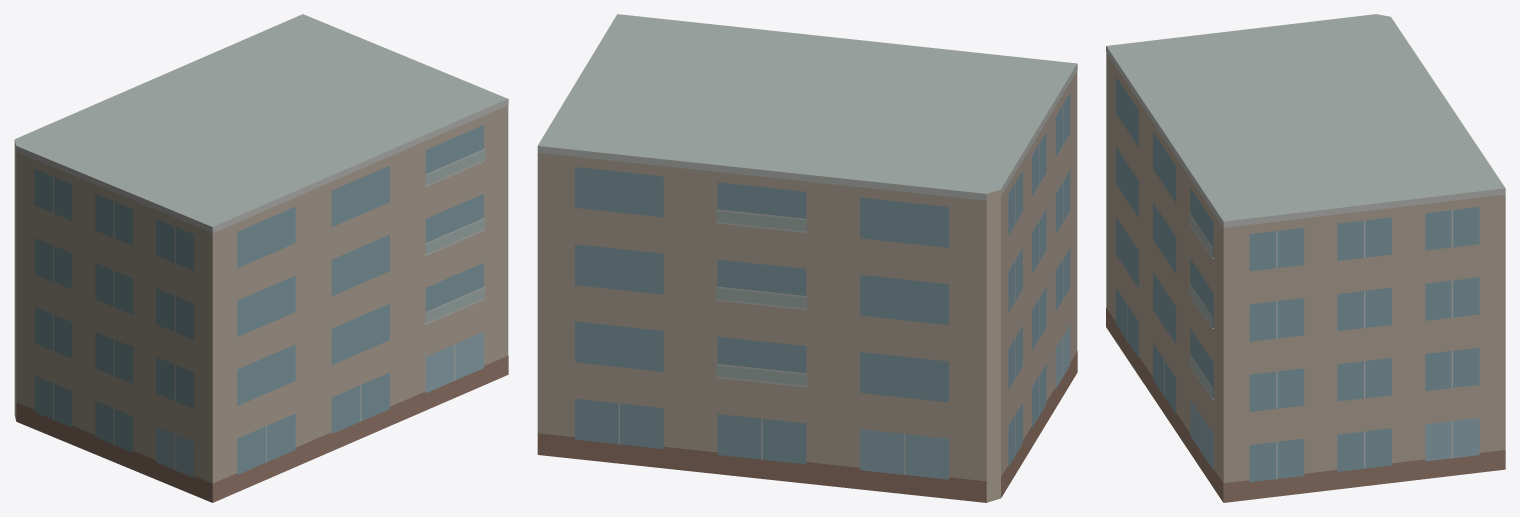
File: survey-upis-32628514.glb
3 views of the same model, side by side, from view 1: azimuth 30°, elevation 25°; view 2: azimuth 150°, elevation 25°; view 3: azimuth 270°, elevation 25° (orthographic). The views are drawn at different scales.
Visible parts, largest first — view 1: survey-upis-32628514.tmp; view 2: survey-upis-32628514.tmp; view 3: survey-upis-32628514.tmp.
Part boxes in pixels (x1=…): survey-upis-32628514.tmp: x1=14, y1=14, x2=508, y2=502; survey-upis-32628514.tmp: x1=537, y1=14, x2=1077, y2=502; survey-upis-32628514.tmp: x1=1106, y1=14, x2=1505, y2=502.
Bounding box in the file's own units: 17.43 × 11 × 14.17.
